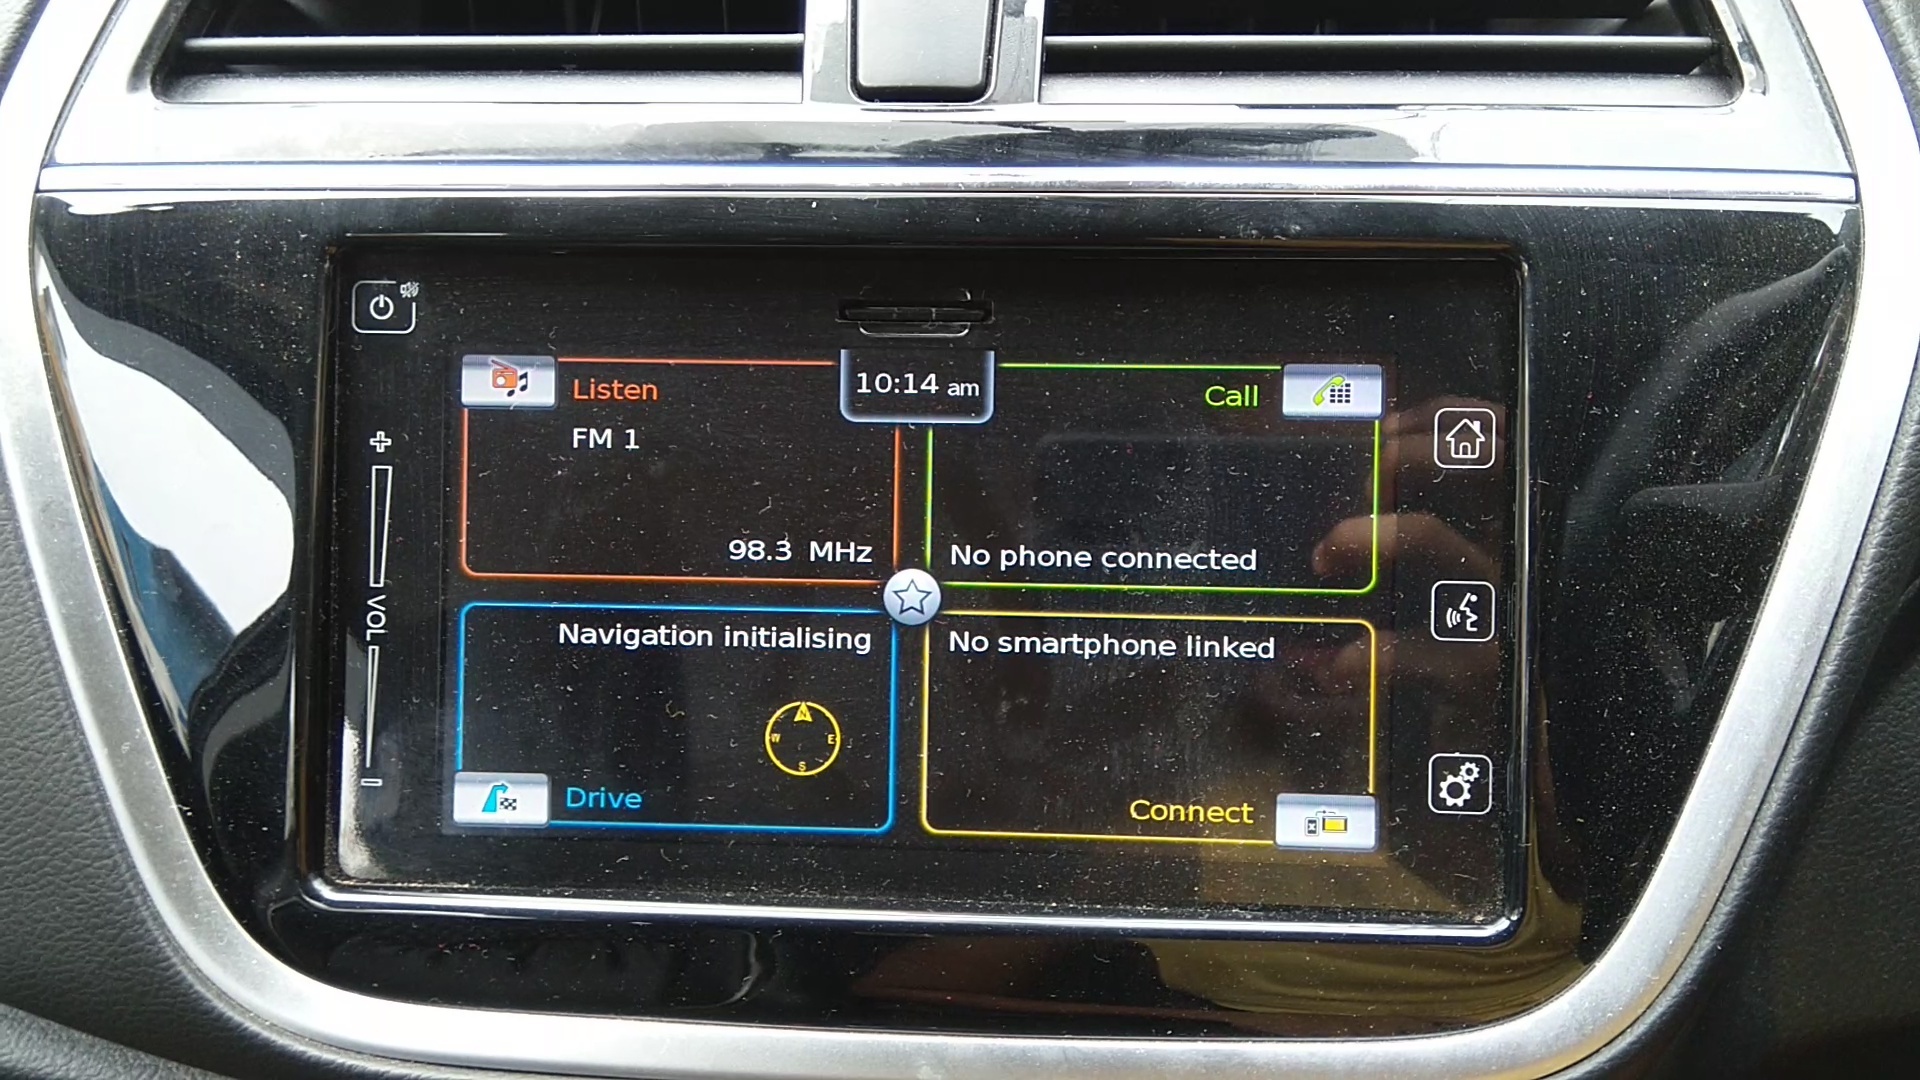touch_infotainment: (274, 222, 1592, 938)
